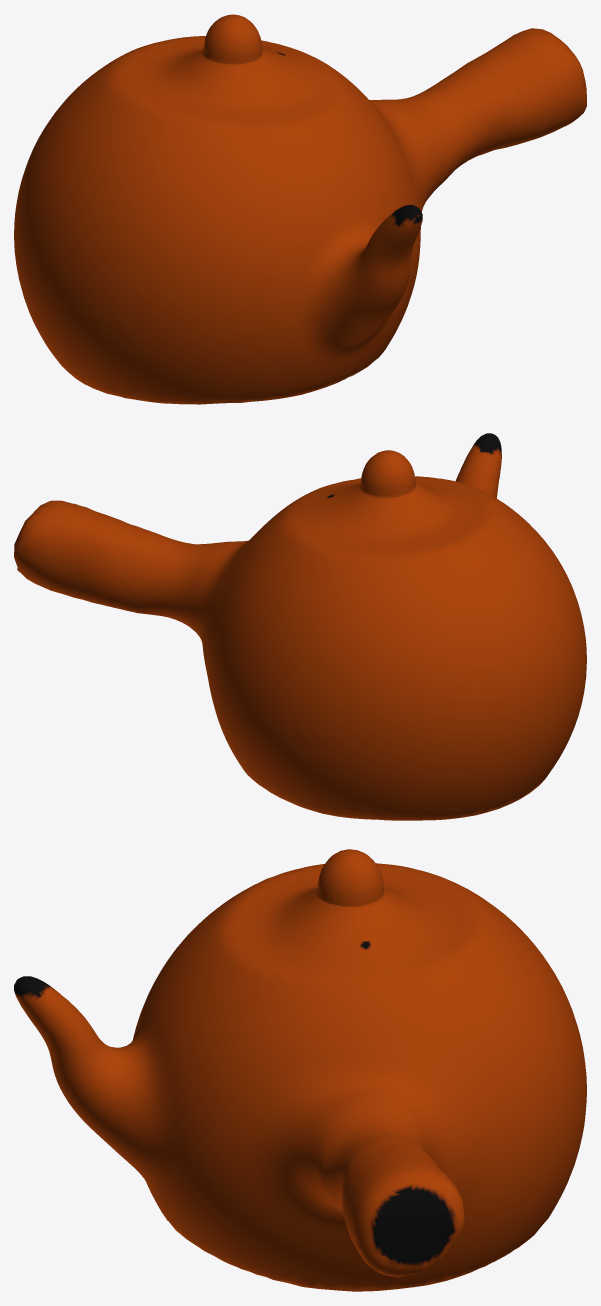
The model's file is bullet.fbx.
3 views of the same model, one above another, from view 1: azimuth 30°, elevation 25°; view 2: azimuth 150°, elevation 25°; view 3: azimuth 270°, elevation 25° (orthographic). The views are drawn at different scales.
Visible parts, largest first — view 1: bullet; view 2: bullet; view 3: bullet.
Part boxes in pixels (left/top/right/bottom): bullet: left=14, top=14, right=586, bottom=404; bullet: left=14, top=433, right=586, bottom=820; bullet: left=14, top=849, right=586, bottom=1291.
Size of the model in its own units: 315 by 179 by 249.
